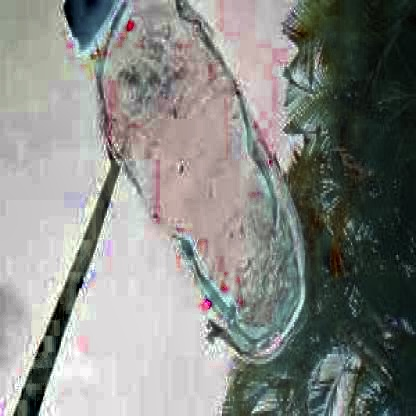pbottle: (52, 2, 317, 374)
